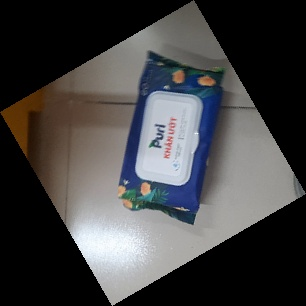Puri Xanh: (116, 47, 226, 227)
